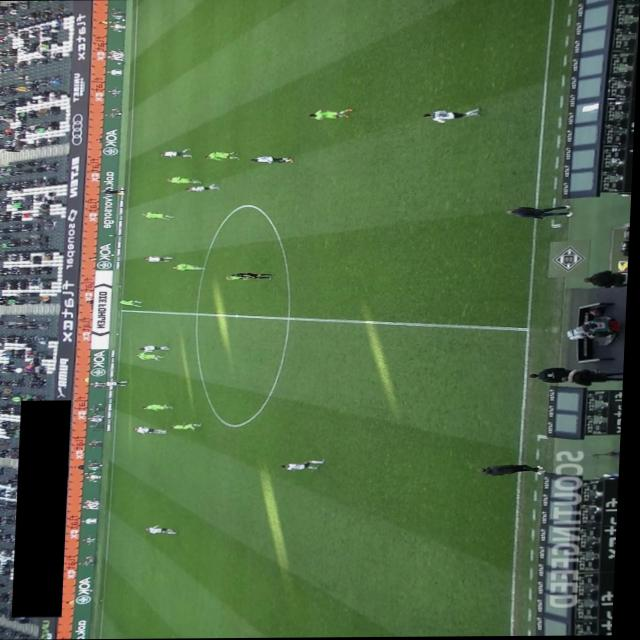player: (423, 108, 483, 123), (309, 108, 355, 120), (284, 459, 329, 471), (251, 155, 295, 164), (136, 425, 173, 435), (205, 151, 241, 161), (143, 210, 178, 220), (148, 524, 183, 534), (160, 148, 194, 158), (137, 350, 168, 360), (187, 184, 222, 192), (146, 403, 178, 411), (142, 344, 174, 352), (173, 422, 205, 430), (168, 176, 204, 183), (174, 263, 210, 270), (121, 299, 146, 307), (227, 274, 255, 281), (146, 255, 176, 261), (103, 380, 132, 386)
referee: (234, 272, 274, 279), (103, 188, 127, 195)
